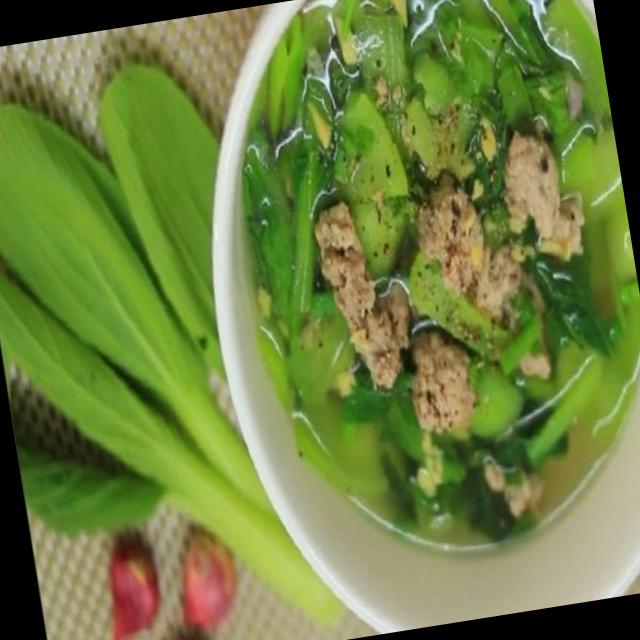canh cai: (243, 0, 640, 541)
